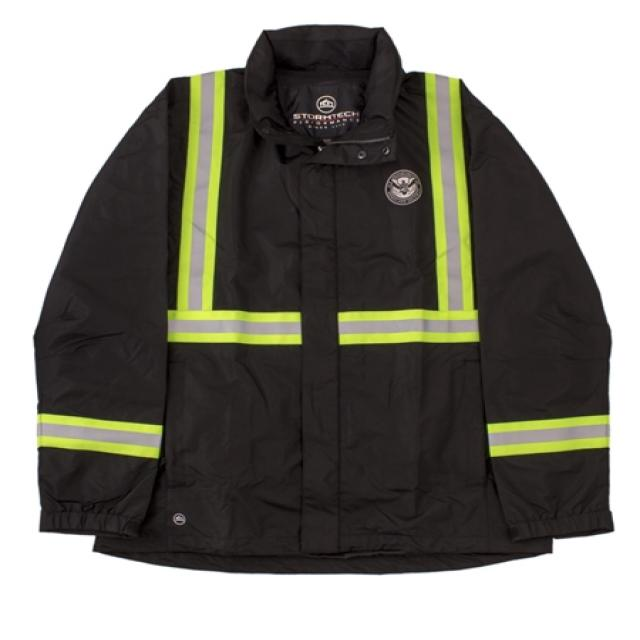Reflective-Jacket: (66, 45, 602, 573)
